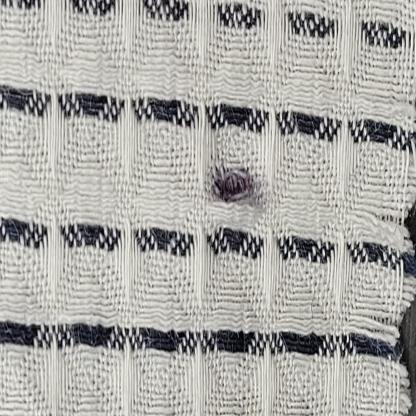spot: (202, 147, 268, 222)
